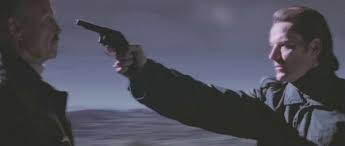Gun: (77, 19, 128, 56)
